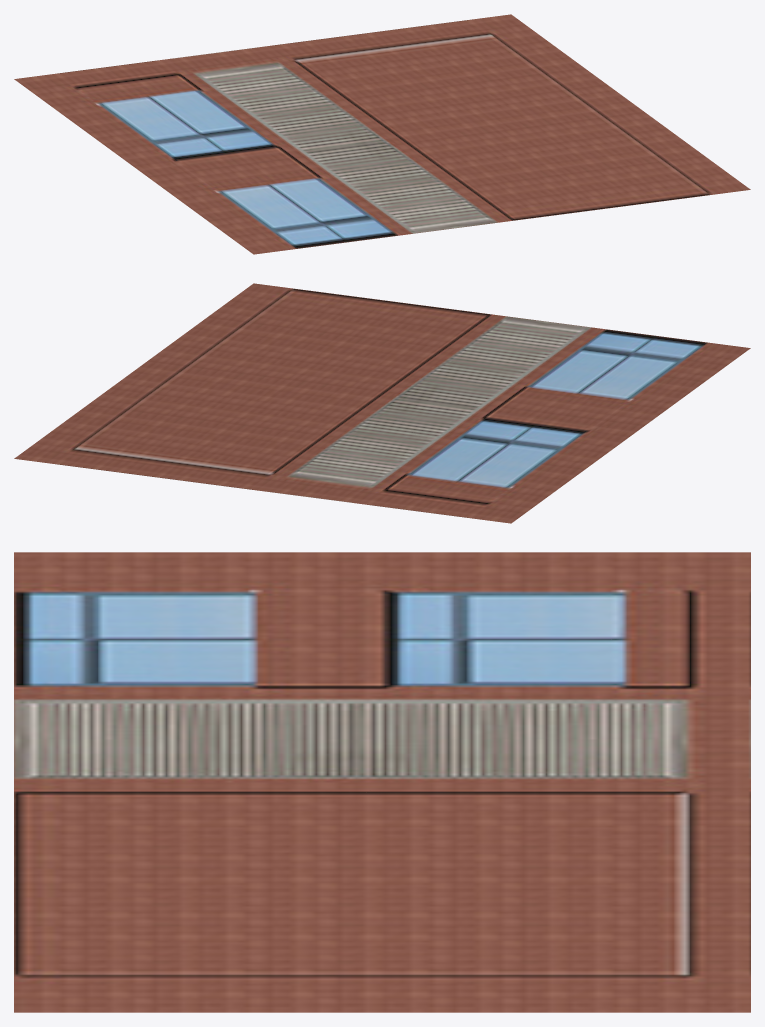
Rendered from data07.glb.
The picture shows the model from 3 angles, top to bottom: view 1: azimuth 30°, elevation 25°; view 2: azimuth 150°, elevation 25°; view 3: azimuth 270°, elevation 25°; orthographic projection. The views are drawn at different scales.
Parts seen in each view (by area): view 1: data07; view 2: data07; view 3: data07.
Part boxes in pixels (left/top/right/bottom): data07: left=14, top=14, right=750, bottom=254; data07: left=14, top=283, right=750, bottom=523; data07: left=14, top=552, right=750, bottom=1012.
Bounding box in the file's own units: 7.19 × 0.7813 × 6.
1 material, 1 textured.
